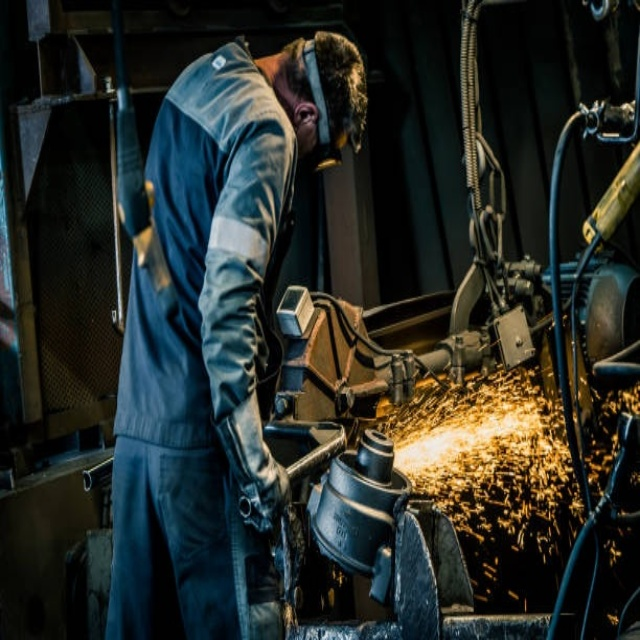Gafas: (302, 36, 343, 184)
Guantes: (216, 400, 292, 544)
